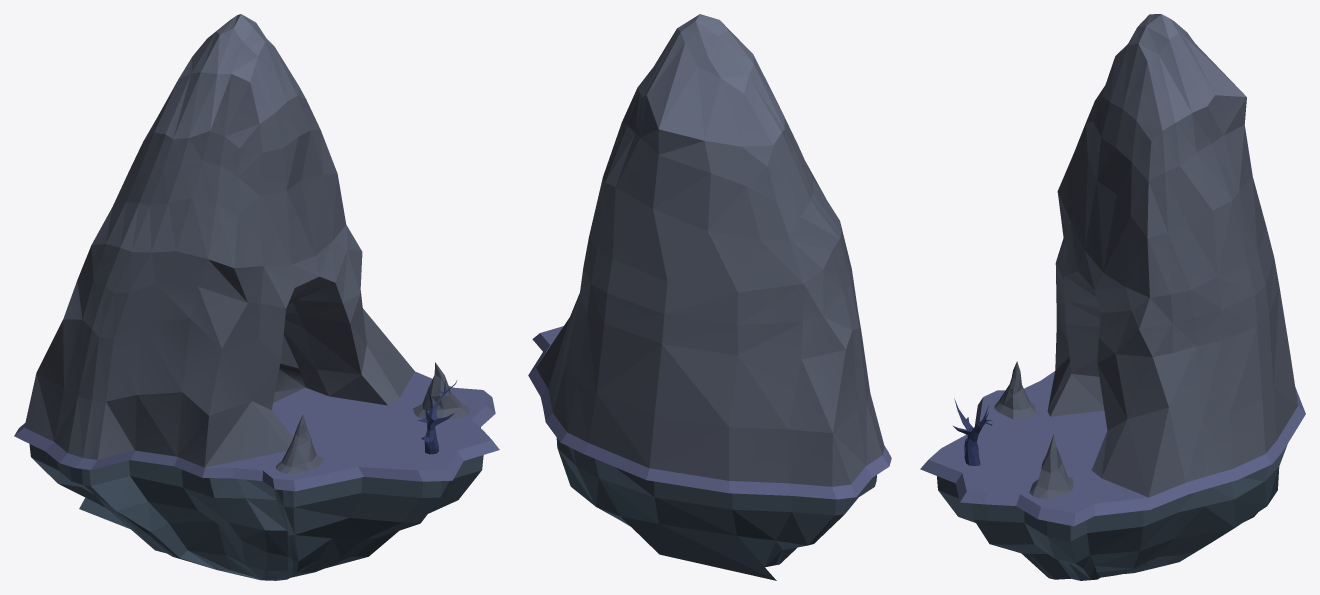
File: Дыра мамки акима (гора).fbx
3 views of the same model, side by side, from view 1: azimuth 30°, elevation 25°; view 2: azimuth 150°, elevation 25°; view 3: azimuth 270°, elevation 25° (orthographic).
Visible parts, largest first — view 1: Plane.001, Plane, Circle.001, Circle, Circle.003; view 2: Plane.001, Plane; view 3: Plane.001, Plane, Circle, Circle.001, Circle.003.
Boxes of the visible parts, x1,y1,x2,y2 form: Plane.001: (24,14,414,467); Plane: (14,371,499,580); Circle.001: (275,414,324,473); Circle: (413,362,470,419); Circle.003: (417,380,456,454); Plane.001: (536,14,884,486); Plane: (528,326,891,580); Plane.001: (1047,14,1297,497); Plane: (920,371,1305,580); Circle: (1029,434,1073,498); Circle.001: (994,361,1035,419); Circle.003: (953,399,992,465).
Bounding box in the file's own units: 1297 × 1694 × 1070.
